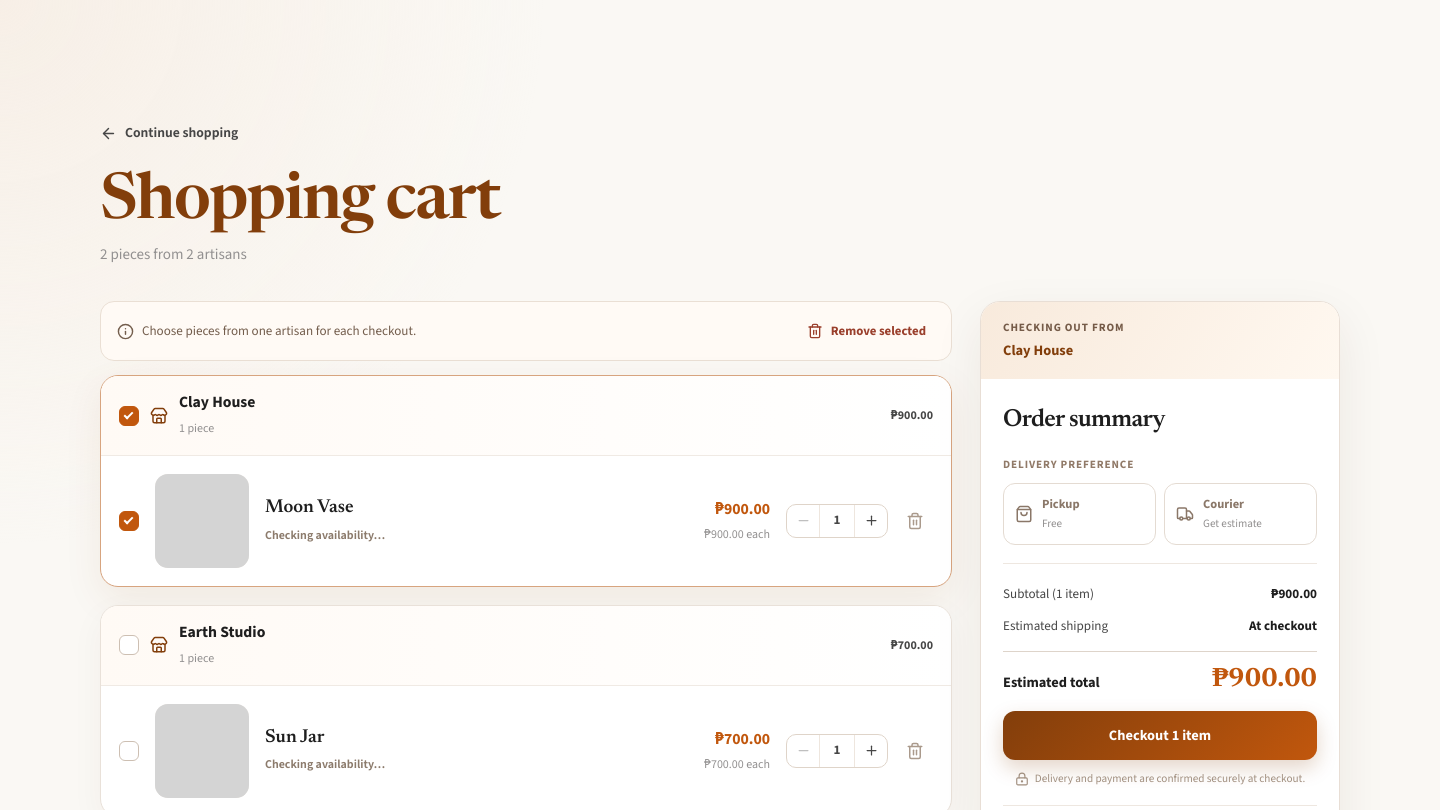
Test: CartPage guest shop flow › does not request a courier estimate without a saved delivery pin
The width and height of the screenshot is (1440, 810).
Expected: the link "Moon Vase" is shown, [265,498,354,517]
Click the button "Courier Get estimate" at x=1240, y=514, box [1164,483,1317,545]
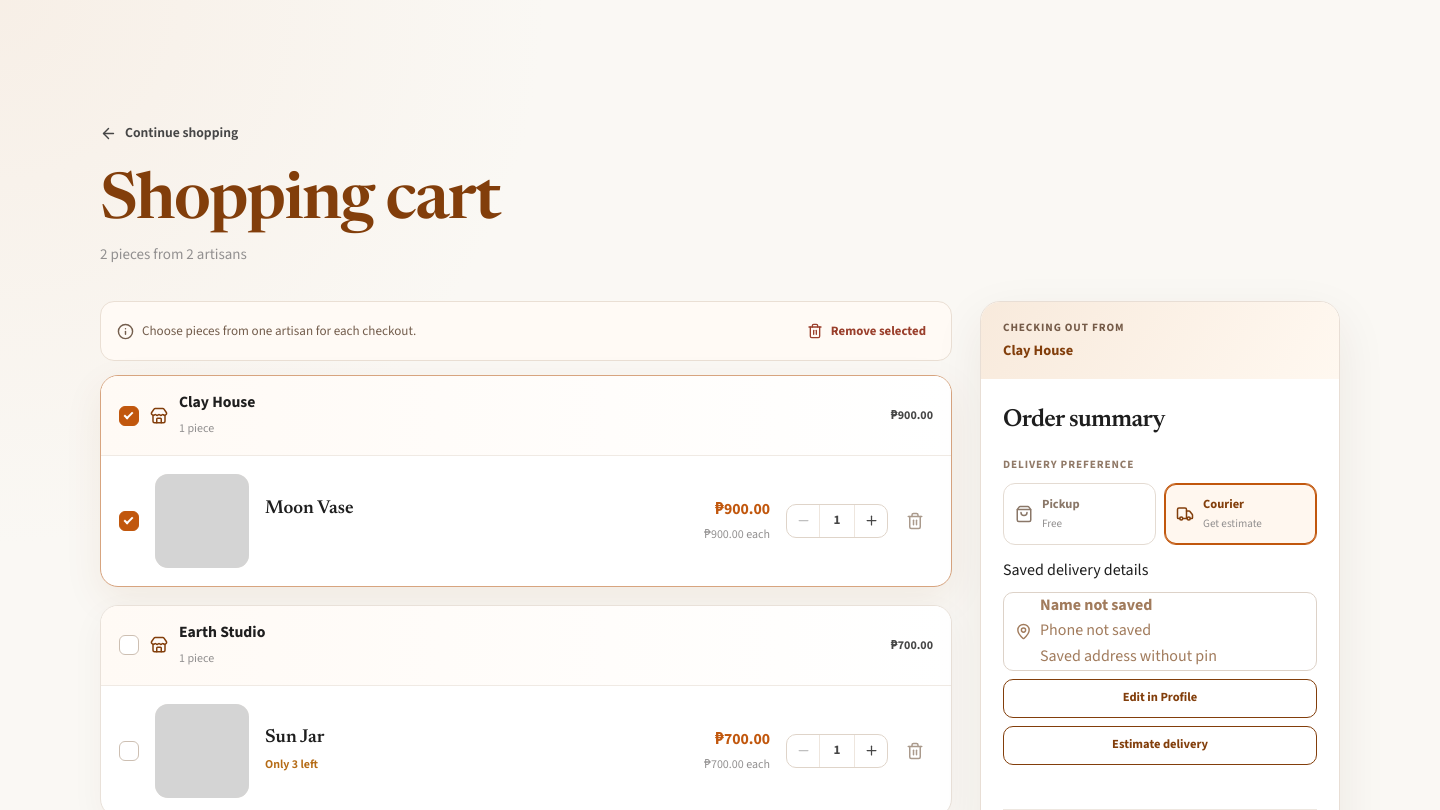
Click the button "Estimate delivery" at x=1160, y=745, box [1003,726,1317,765]
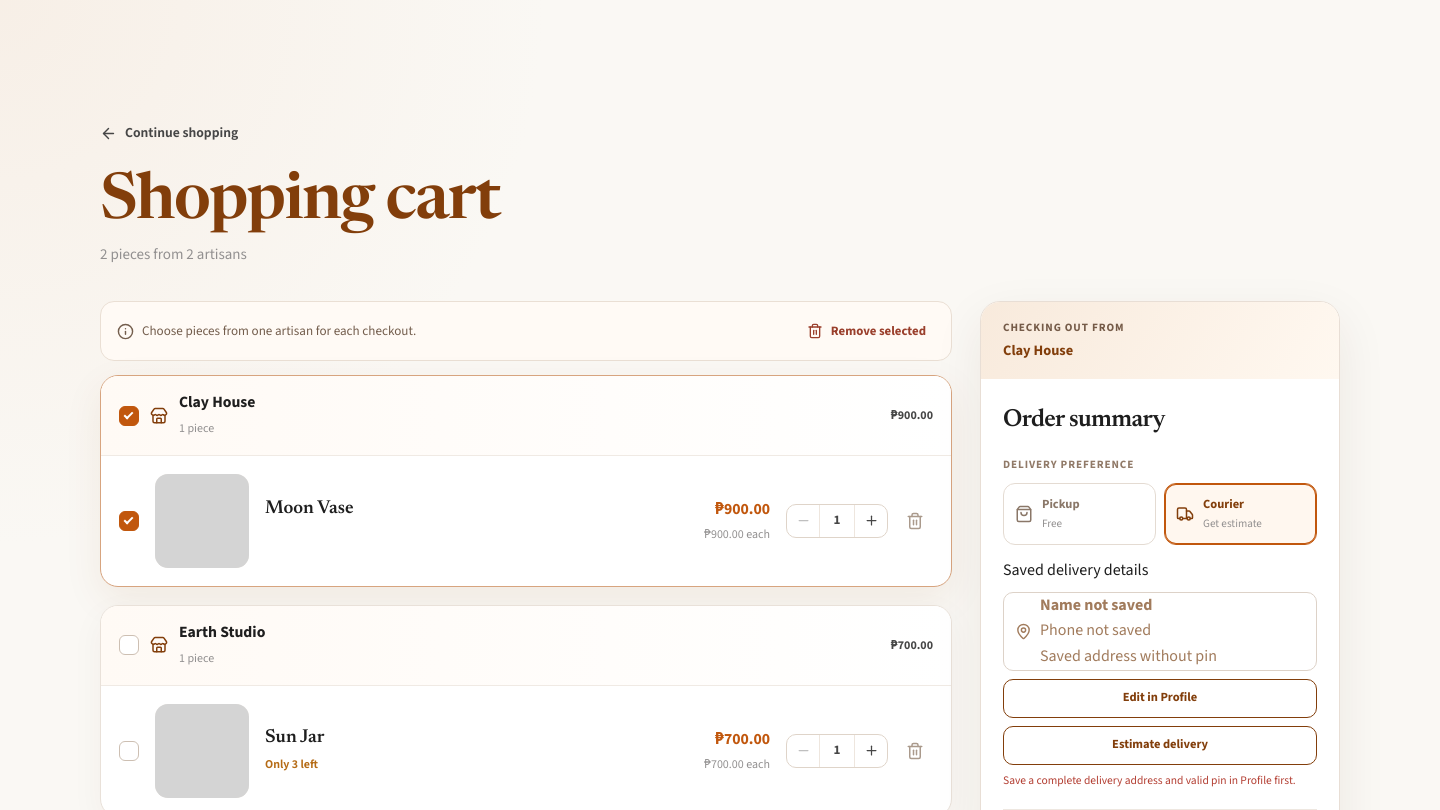
Expected: the text "Save a complete delivery address and valid pin in Profile first" is shown, [1003,772,1296,789]
